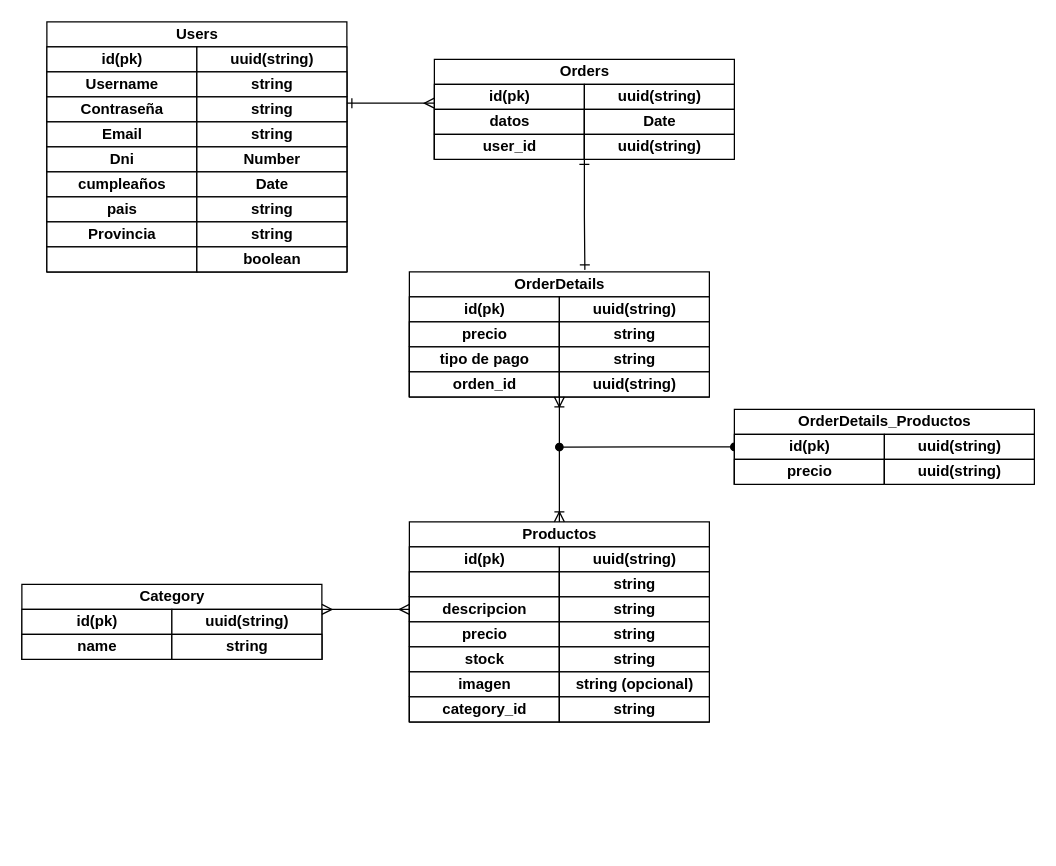
Image size: 1056x866. Some labels were removed from this diagram. The centre of each missing label's shape, as x and y in pixels:
"admin" belongs at (x=121, y=259).
"nombre" belongs at (x=483, y=584).
